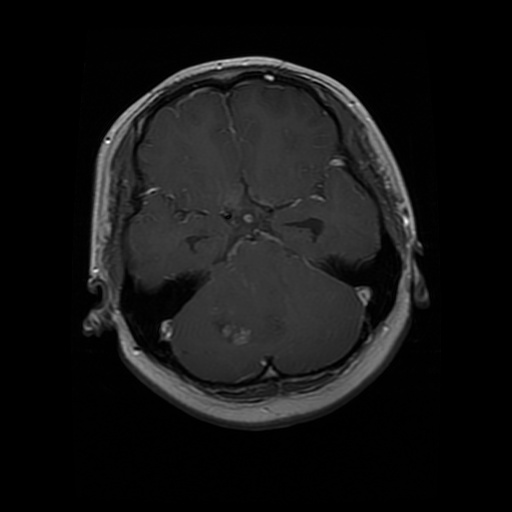glioma: (213, 244, 284, 337)
